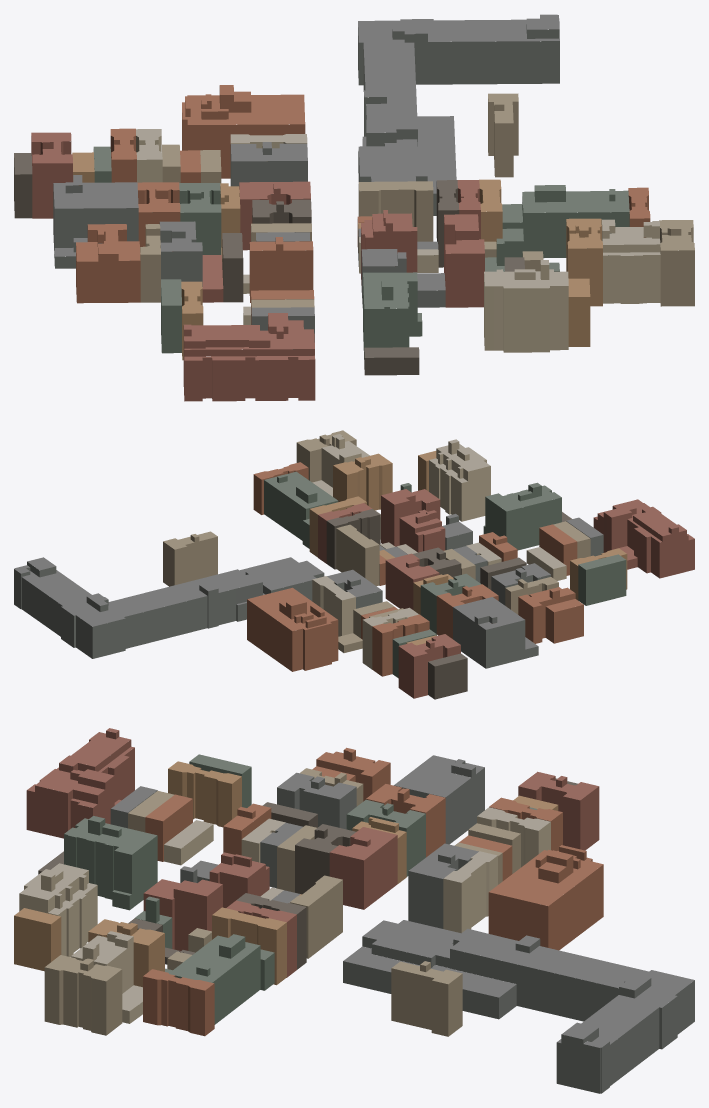
Rendered from tile-6_4.glb.
The picture shows the model from 3 angles, top to bottom: view 1: azimuth 30°, elevation 25°; view 2: azimuth 150°, elevation 25°; view 3: azimuth 270°, elevation 25°; orthographic projection. The views are drawn at different scales.
Parts seen in each view (by area): view 1: wall, roof; view 2: wall, roof; view 3: wall, roof.
Part boxes in pixels (x1,y1,x2,y2): wall: [14, 24, 694, 401]; roof: [14, 14, 694, 360]; wall: [14, 436, 694, 699]; roof: [14, 430, 694, 666]; wall: [14, 731, 694, 1093]; roof: [14, 728, 694, 1047].
Size of the model in its own units: 262 by 31.38 by 249.
